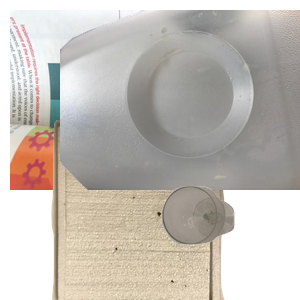glass: (159, 184, 300, 300)
paper: (10, 10, 250, 190)
plastic: (60, 10, 300, 190)
trash: (49, 120, 269, 300)
